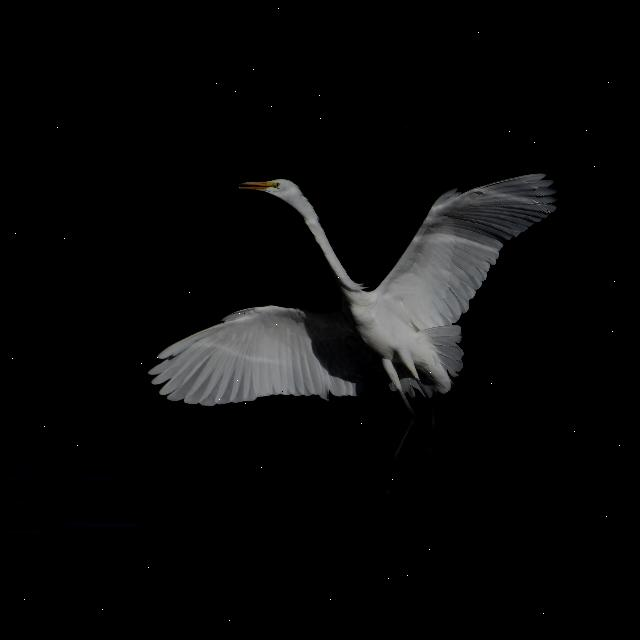egret: (144, 166, 560, 494)
